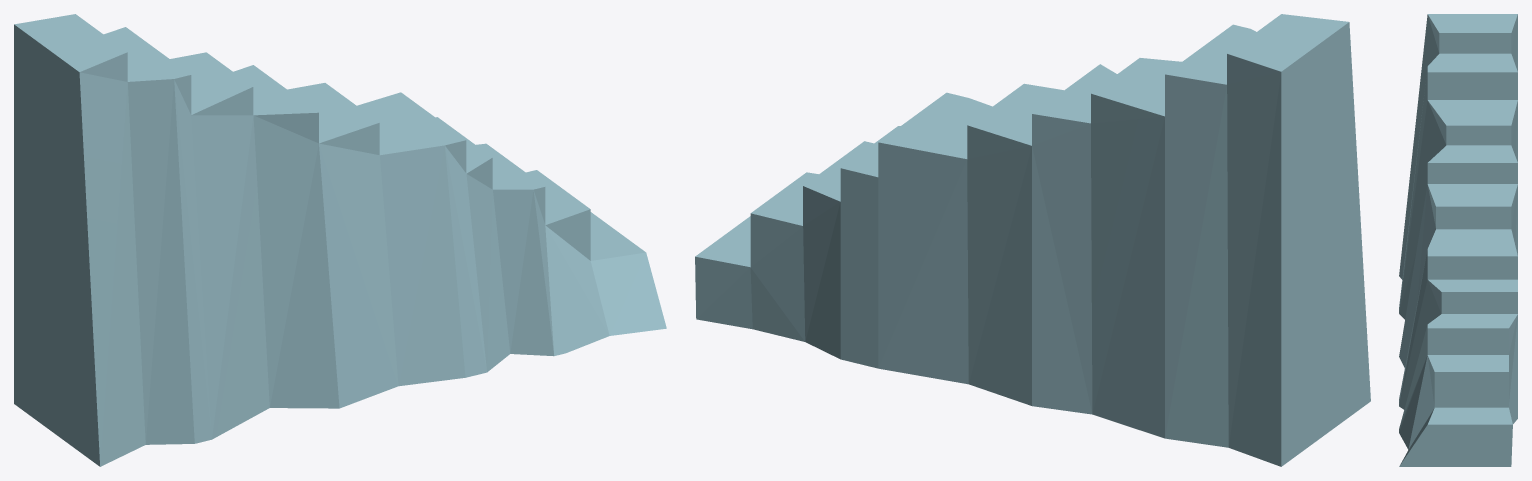
File: Terrain_Modular_Tiles_Ice_Stairs_02.fbx
The picture shows the model from 3 angles, left to right: view 1: azimuth 30°, elevation 25°; view 2: azimuth 150°, elevation 25°; view 3: azimuth 270°, elevation 25°; orthographic projection. The views are drawn at different scales.
Parts seen in each view (by area): view 1: Terrain_Modular_Tiles_Ice_Stairs_02; view 2: Terrain_Modular_Tiles_Ice_Stairs_02; view 3: Terrain_Modular_Tiles_Ice_Stairs_02.
Part boxes in pixels (<box>): Terrain_Modular_Tiles_Ice_Stairs_02: <box>14,14,666,466</box>; Terrain_Modular_Tiles_Ice_Stairs_02: <box>695,14,1370,466</box>; Terrain_Modular_Tiles_Ice_Stairs_02: <box>1399,14,1517,466</box>.
Size of the model in its own units: 3750 by 2400 by 987.
